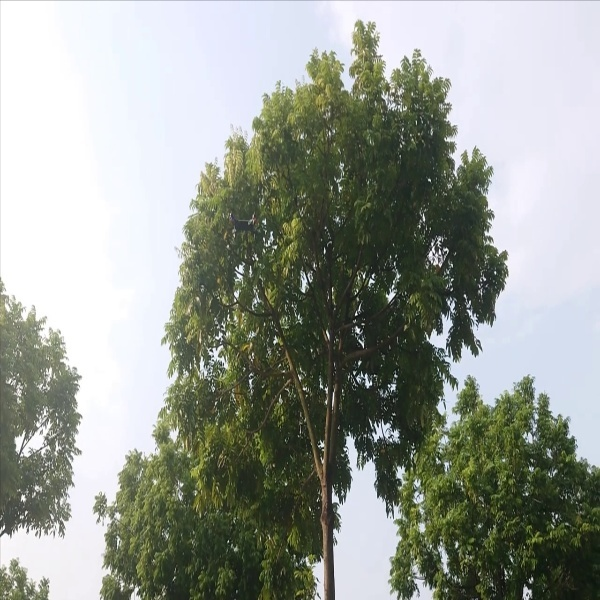drone: (226, 208, 268, 242)
